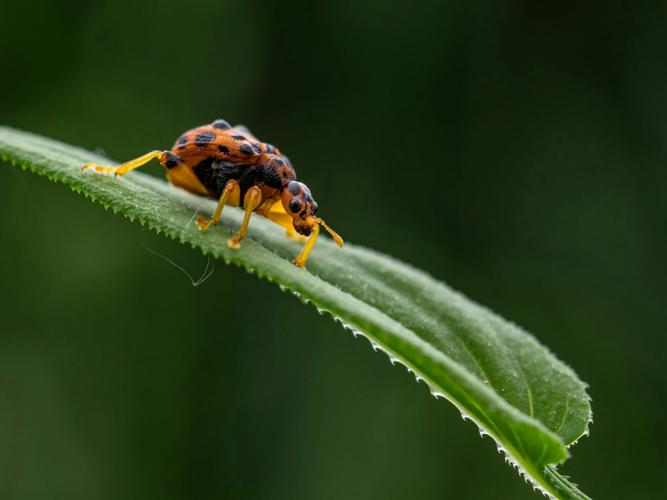Curculionidae: (78, 118, 345, 267)
